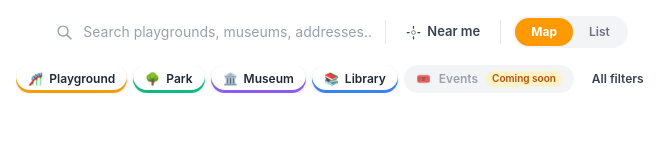
Scenario: activity keyword search (issue #212) › groups results under Activities/Places headers and a literal name match wins the Places slot, not Activities
This screenshot has width=660, height=160.
Type "park" into the dropdown with placeholder "Search playgrounds, museums, addresses…" at (228, 32), box 83,22 -> 373,42
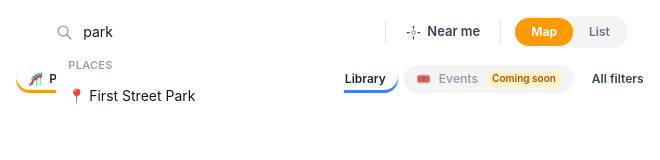
Result: the number of options "📍 First Street Park" is 1 at 56,78 -> 344,114
Result: the text "Places" is shown at 68,58 -> 113,72
